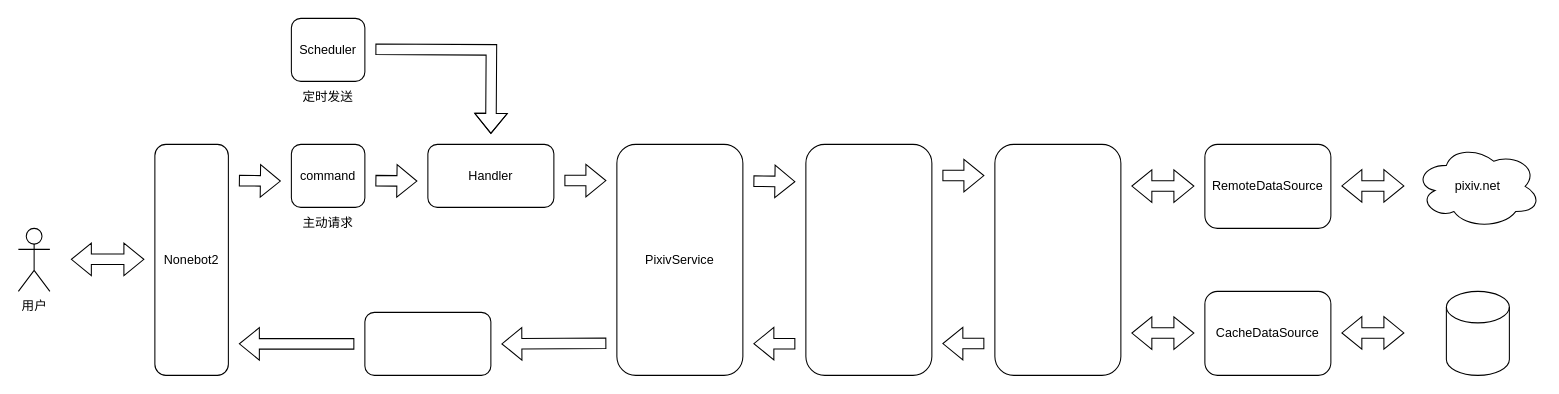
Image size: 1559x394. Some labels were removed from this diagram. The box of each missing label's shape, as (x1, y1, x2, y2) in pixels:
CacheManager: (994, 143, 1121, 375)
MongoDB: (1445, 290, 1509, 375)
PixivDataSource: (805, 143, 932, 375)
Postman: (364, 311, 491, 375)
